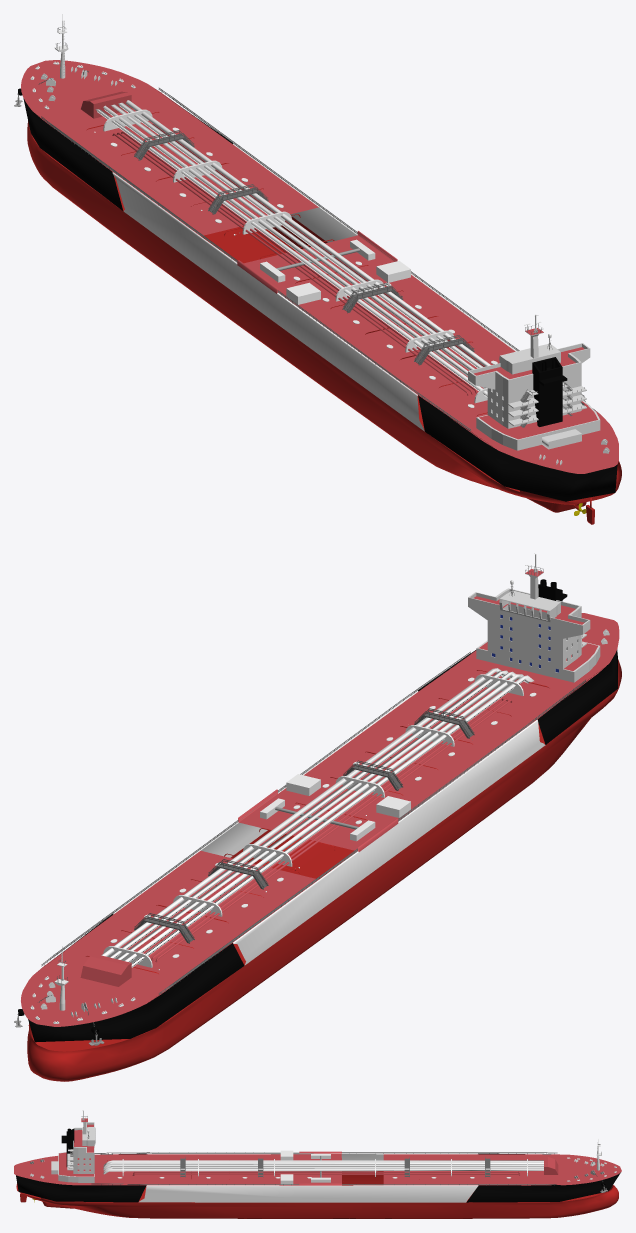
The picture shows the model from 3 angles, top to bottom: view 1: azimuth 30°, elevation 25°; view 2: azimuth 150°, elevation 25°; view 3: azimuth 270°, elevation 25°; orthographic projection. The views are drawn at different scales.
Parts seen in each view (by area): view 1: Object_4, Object_7, Object_18, Object_6, Object_5, Object_12, Object_32, Object_34; view 2: Object_4, Object_7, Object_18, Object_6, Object_5, Object_12, Object_32, Object_34; view 3: Object_4, Object_7, Object_6, Object_18, Object_5, Object_32, Object_12, Object_34.
Boxes of the visible parts, box(x1,y1,x2,y2) form: Object_4: box(21, 60, 618, 473); Object_7: box(27, 112, 621, 524); Object_18: box(95, 100, 490, 403); Object_6: box(112, 143, 516, 431); Object_5: box(18, 88, 617, 501); Object_12: box(468, 314, 600, 450); Object_32: box(17, 26, 585, 430); Object_34: box(30, 14, 609, 465); Object_4: box(21, 569, 619, 1026); Object_7: box(27, 659, 621, 1081); Object_18: box(101, 668, 533, 967); Object_6: box(113, 690, 545, 965); Object_5: box(18, 579, 617, 1042); Object_12: box(468, 553, 600, 682); Object_32: box(17, 565, 585, 1034); Object_34: box(30, 629, 609, 1023); Object_4: box(14, 1118, 621, 1185); Object_7: box(16, 1160, 618, 1218); Object_6: box(139, 1153, 478, 1202); Object_18: box(103, 1150, 543, 1184); Object_5: box(16, 1128, 620, 1202); Object_32: box(68, 1116, 604, 1185); Object_12: box(51, 1110, 95, 1182); Object_34: box(30, 1139, 616, 1181).
Size of the model in its own units: 20.15 by 27.17 by 160.
